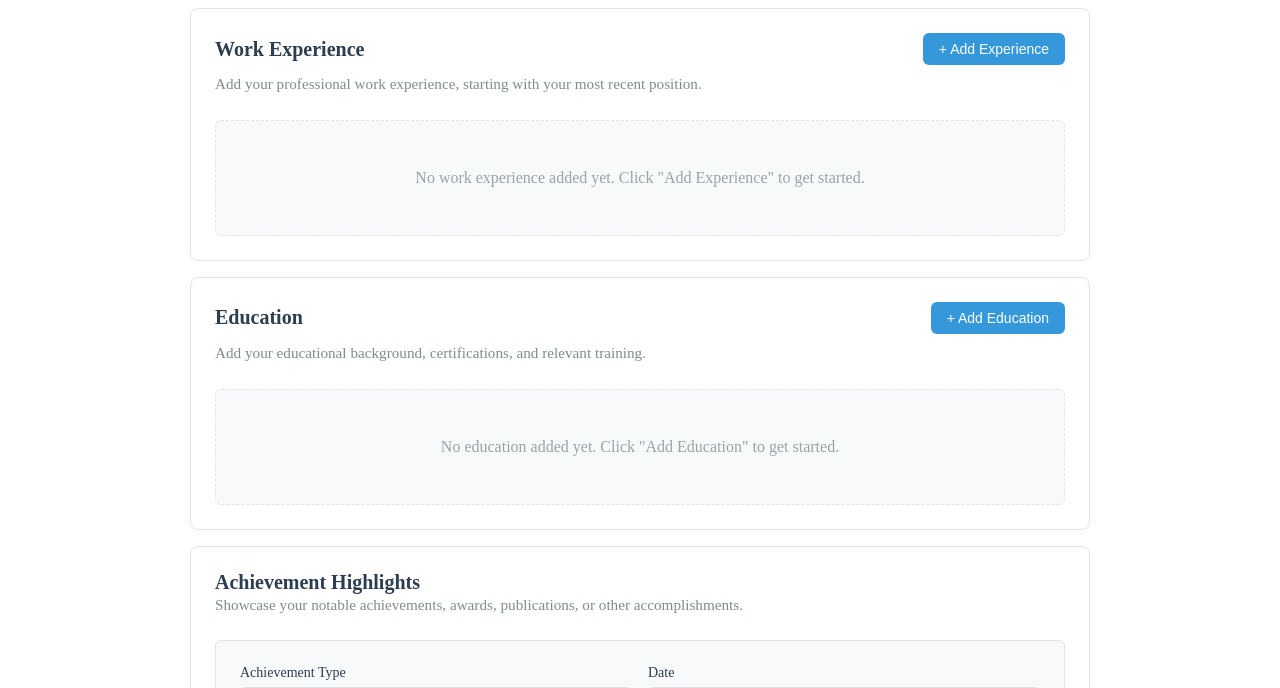
ExperienceStep Component › Education Management › allows adding new education
Click the button "+ Add Education": (998, 318) [931,302,1065,334]
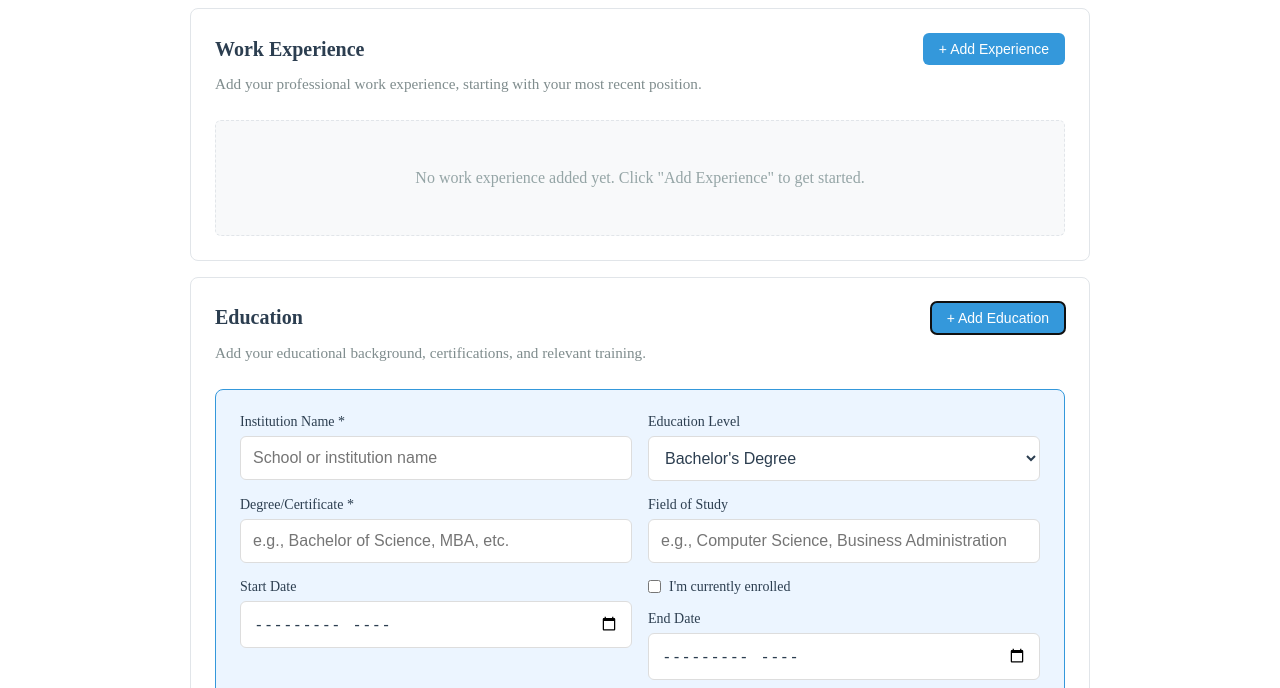
Now the field with placeholder "School or institution name" is shown, box [240,436,632,480]
Now the field with placeholder "e.g., Bachelor of Science, MBA, etc." is shown, box [240,519,632,563]
